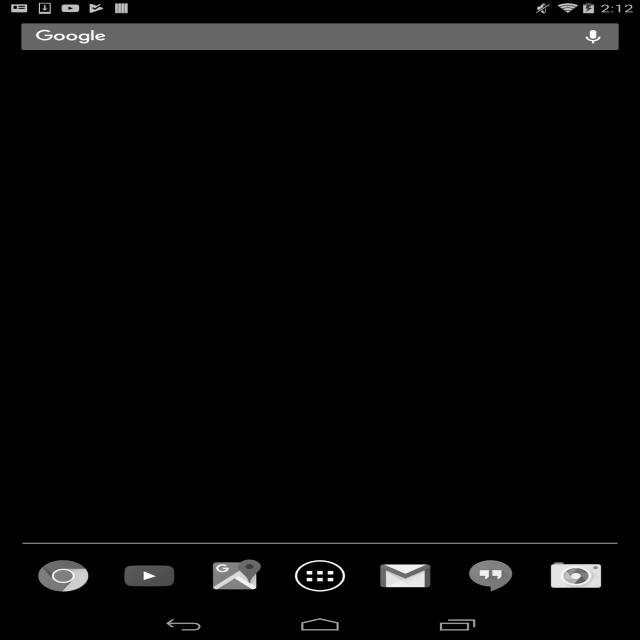EditText: (28, 23, 614, 49)
ImageView: (22, 552, 91, 594), (286, 549, 347, 594), (542, 557, 604, 595), (454, 554, 514, 592), (202, 558, 259, 596), (370, 558, 434, 590), (120, 558, 182, 589)
